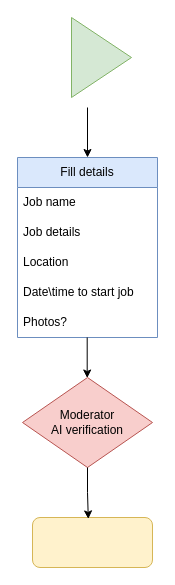
Image size: 175x585. Some labels were removed from this diagram. The shapes that lost their labels are listed below. From the top down, each one's centre as x and y in pixels, then its label:
At (101,57): "Create Task".
At (92,542): "Worker responces".
